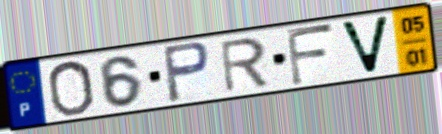6: (97, 53, 145, 110)
F: (283, 22, 338, 88)
O: (45, 58, 96, 119)
P: (160, 39, 213, 105)
R: (217, 36, 272, 95)
V: (337, 14, 393, 77)
